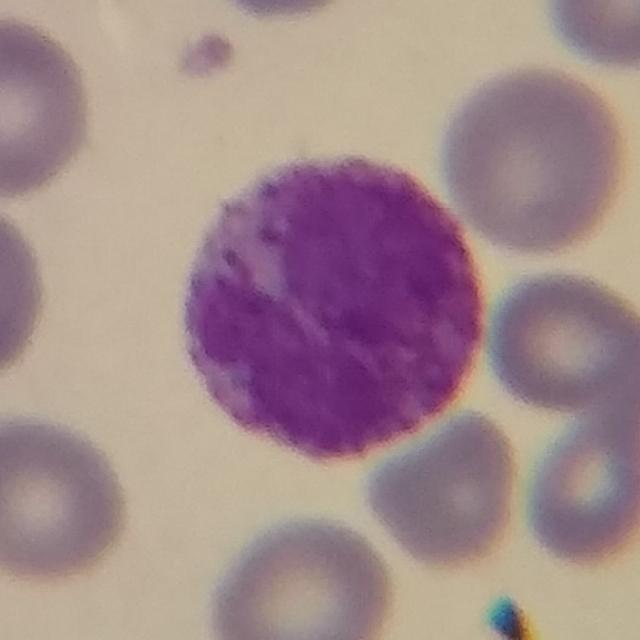baso: (181, 146, 494, 463)
